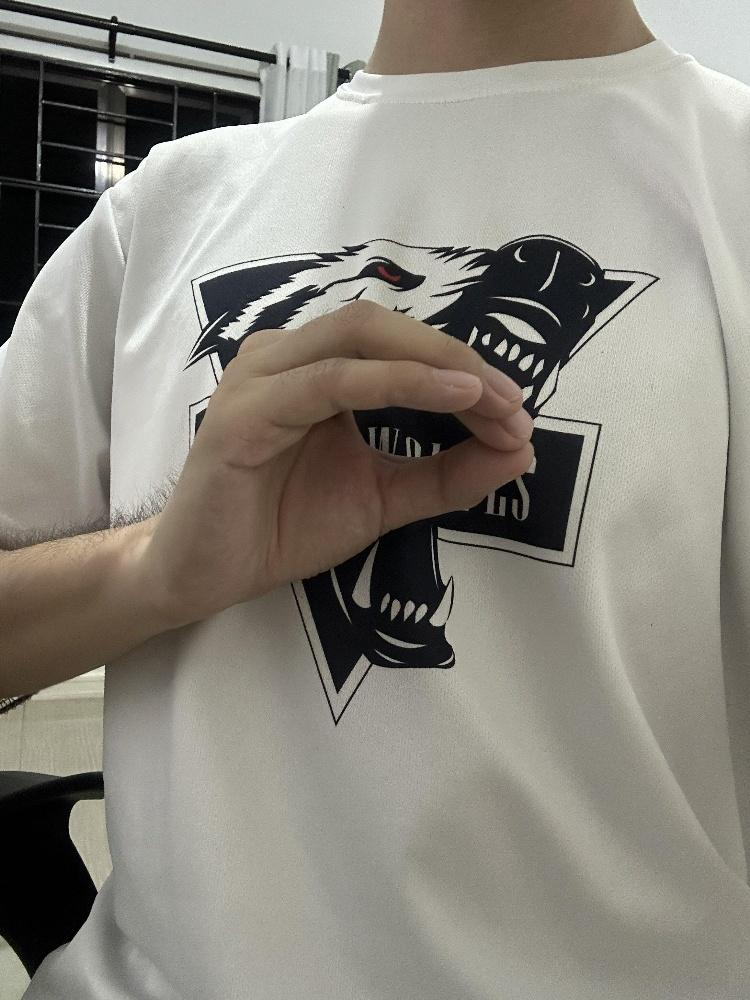o: (159, 294, 541, 604)
